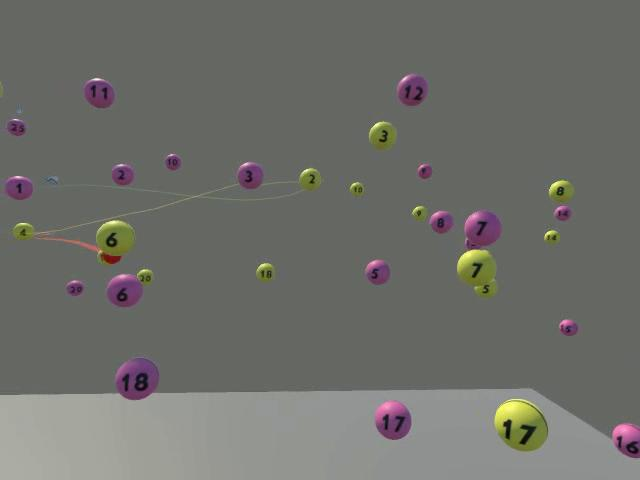ball_01_pink: (4, 175, 33, 200)
ball_02_pink: (111, 163, 134, 185)
ball_02_yellow: (298, 168, 322, 190)
ball_03_pink: (236, 161, 263, 189)
ball_03_yellow: (368, 120, 396, 148)
ball_04_yellow: (13, 223, 35, 241)
ball_05_pink: (365, 259, 389, 284)
ball_05_yellow: (474, 281, 497, 297)
ball_06_pink: (106, 274, 143, 307)
ball_06_yellow: (95, 219, 135, 256)
ball_07_pink: (464, 211, 501, 245)
ball_07_yellow: (456, 248, 496, 285)
ball_08_pink: (429, 210, 453, 234)
ball_08_yellow: (548, 179, 574, 203)
ball_09_pink: (417, 163, 431, 178)
ball_09_yellow: (411, 205, 426, 220)
ball_10_pink: (164, 153, 181, 170)
ball_10_yellow: (349, 181, 365, 197)
ball_11_pink: (84, 77, 114, 108)
ball_12_pink: (397, 74, 427, 106)
ball_14_pink: (553, 205, 571, 220)
ball_14_yellow: (544, 230, 560, 244)
ball_15_pink: (558, 319, 577, 336)
ball_17_pink: (374, 400, 411, 439), (612, 423, 639, 458)
ball_17_yellow: (493, 398, 547, 451)
ball_18_pink: (114, 357, 159, 399)
ball_18_yellow: (255, 262, 274, 281)
ball_20_pink: (65, 280, 84, 296)
ball_20_yellow: (136, 268, 153, 284)
ball_25_pink: (6, 118, 26, 136)
ball_unknown: (102, 249, 121, 262), (464, 237, 480, 250), (96, 249, 104, 263), (0, 80, 3, 97)
